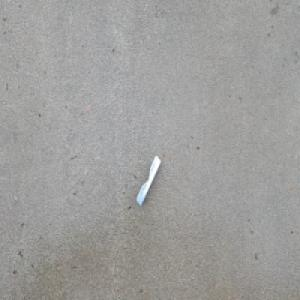ClampPart: (135, 154, 161, 207)
